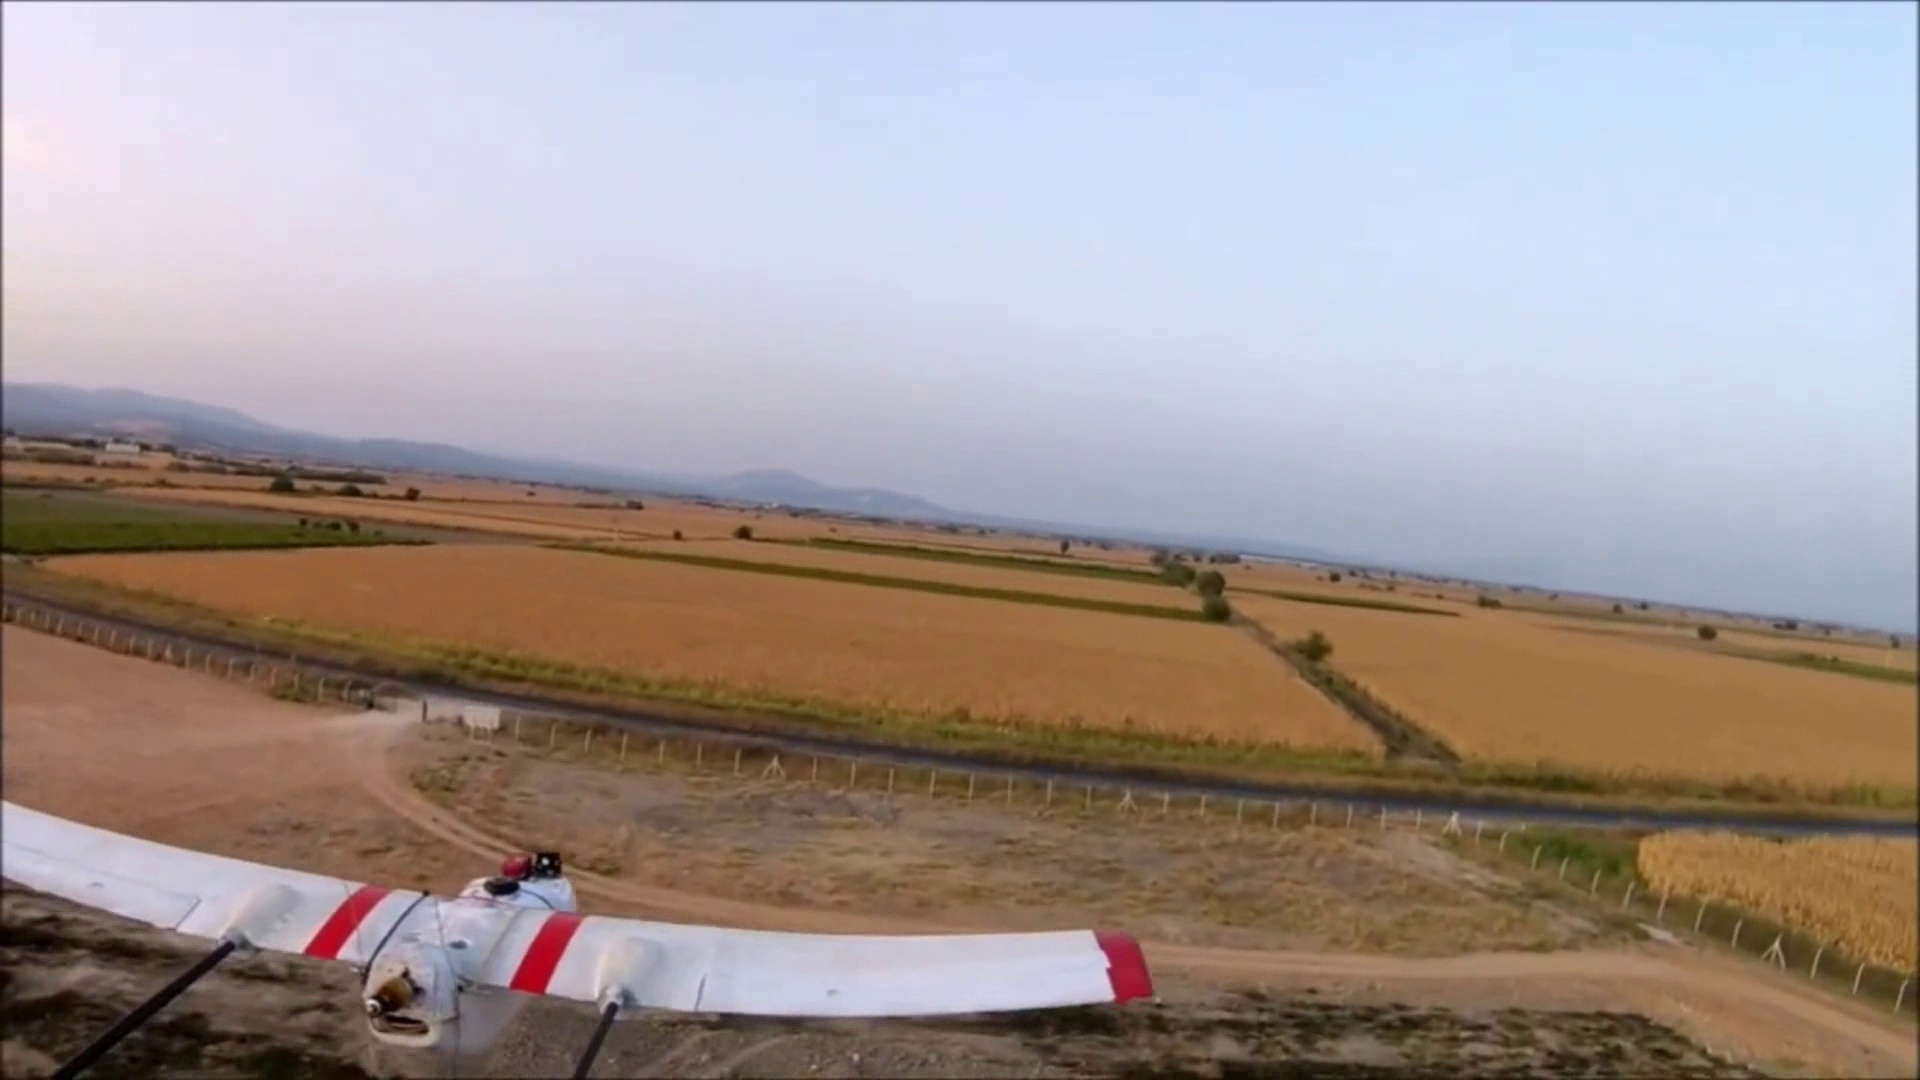airplane: (3, 796, 1168, 1044)
